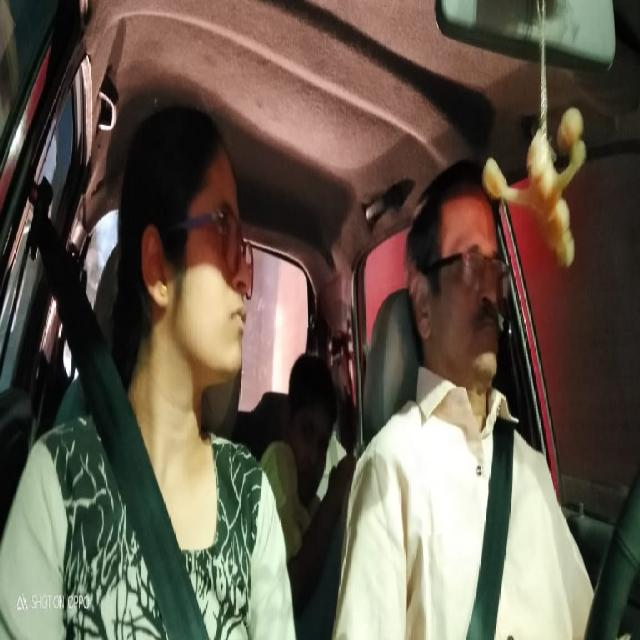person: (116, 94, 257, 424), (400, 153, 515, 439), (283, 338, 338, 491)
